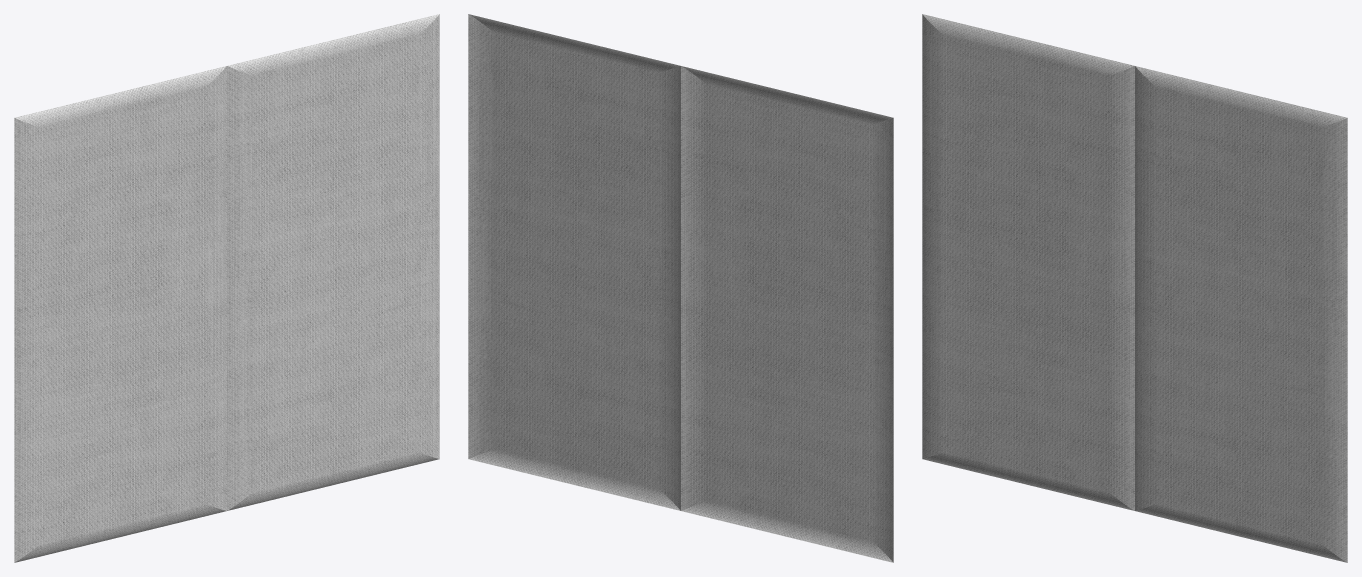
Rendered from PG-00 - Grove.glb.
The picture shows the model from 3 angles, left to right: view 1: azimuth 30°, elevation 25°; view 2: azimuth 150°, elevation 25°; view 3: azimuth 330°, elevation 25°; orthographic projection.
Parts seen in each view (by area): view 1: panel-parts4-.001; view 2: panel-parts4-.001; view 3: panel-parts4-.001.
Part boxes in pixels (x1,y1,x2,y2): panel-parts4-.001: (14, 14, 439, 562); panel-parts4-.001: (468, 14, 893, 562); panel-parts4-.001: (922, 14, 1347, 562).
Size of the model in its own units: 2 by 2 by 0.016.
Materials: 1 (1 with a texture image).
